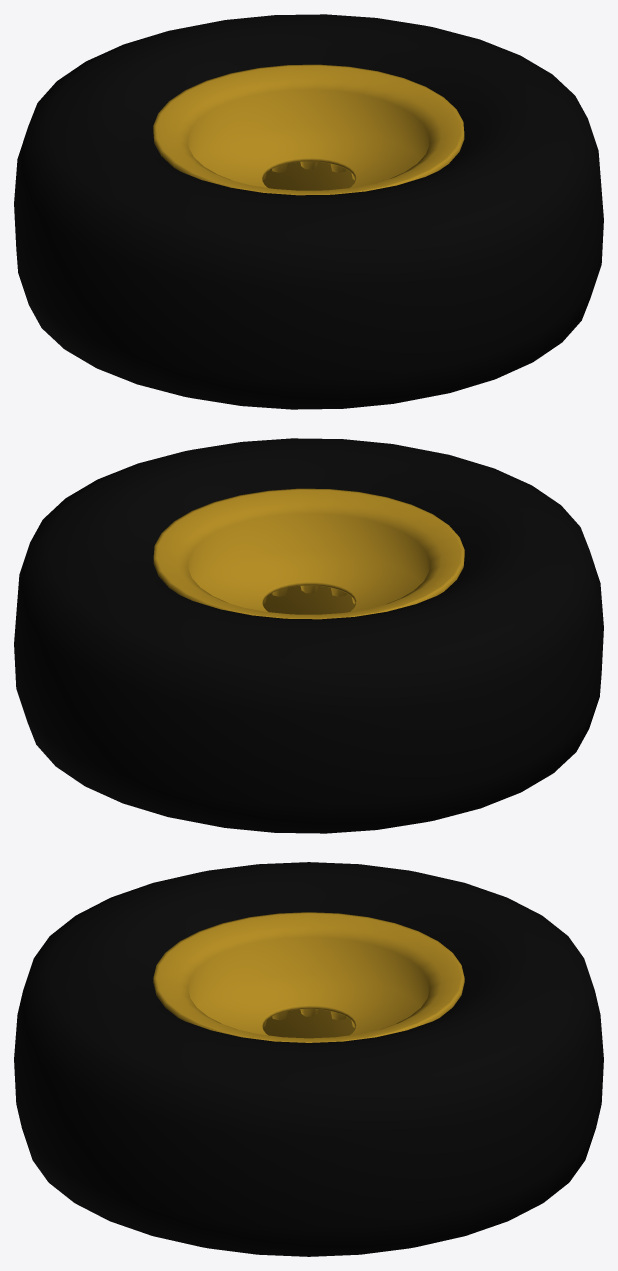
File: tyre.obj
The picture shows the model from 3 angles, top to bottom: view 1: azimuth 30°, elevation 25°; view 2: azimuth 150°, elevation 25°; view 3: azimuth 270°, elevation 25°; orthographic projection.
Visible parts, largest first — view 1: Tyre_0002, Tyre_0001, Tyre_0000, Tyre_0005, Tyre_0004, Tyre_0003; view 2: Tyre_0002, Tyre_0001, Tyre_0000, Tyre_0005, Tyre_0004, Tyre_0003; view 3: Tyre_0002, Tyre_0000, Tyre_0001, Tyre_0005, Tyre_0003, Tyre_0004.
Part boxes in pixels (x1,y1,x2,y2): Tyre_0002: (28,14,589,409); Tyre_0001: (232,165,594,408); Tyre_0000: (14,118,603,404); Tyre_0005: (153,64,464,195); Tyre_0004: (191,89,459,190); Tyre_0003: (153,91,464,188); Tyre_0002: (28,438,589,833); Tyre_0001: (23,589,385,832); Tyre_0000: (14,542,603,828); Tyre_0005: (153,488,464,619); Tyre_0004: (158,513,426,614); Tyre_0003: (153,515,464,612); Tyre_0002: (28,862,589,1256); Tyre_0000: (100,1065,517,1255); Tyre_0001: (14,960,603,1220); Tyre_0005: (153,912,464,1042); Tyre_0003: (199,937,418,1038); Tyre_0004: (153,952,464,1027).
Bounding box in the file's own units: 1.45 × 0.5343 × 1.45.
